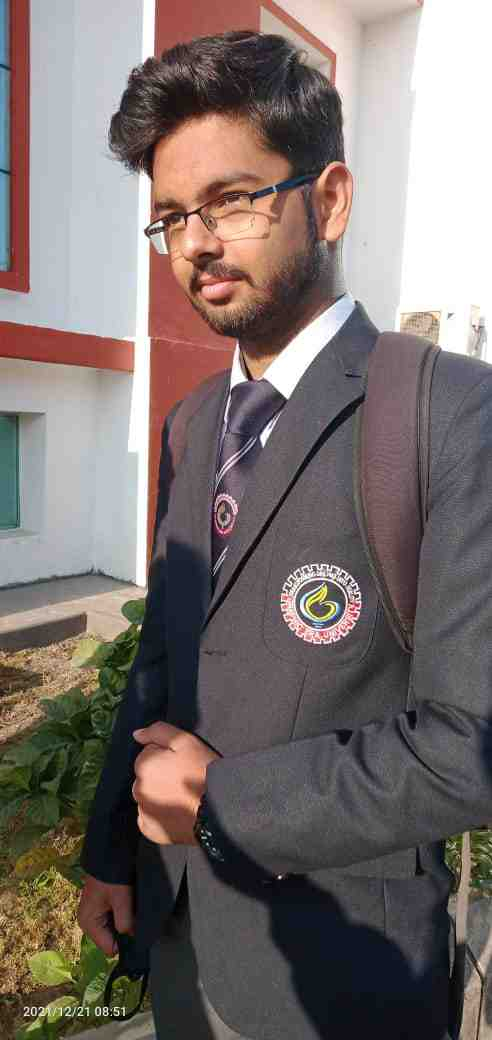blazer: (90, 297, 491, 1033)
tie: (202, 378, 289, 583)
